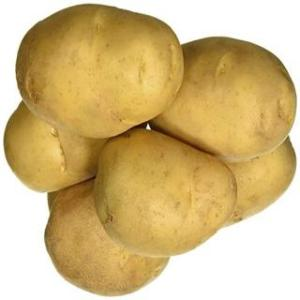potato: (16, 5, 184, 138), (150, 40, 296, 162), (96, 134, 236, 256), (44, 186, 170, 296), (3, 102, 101, 194), (222, 143, 296, 227)
